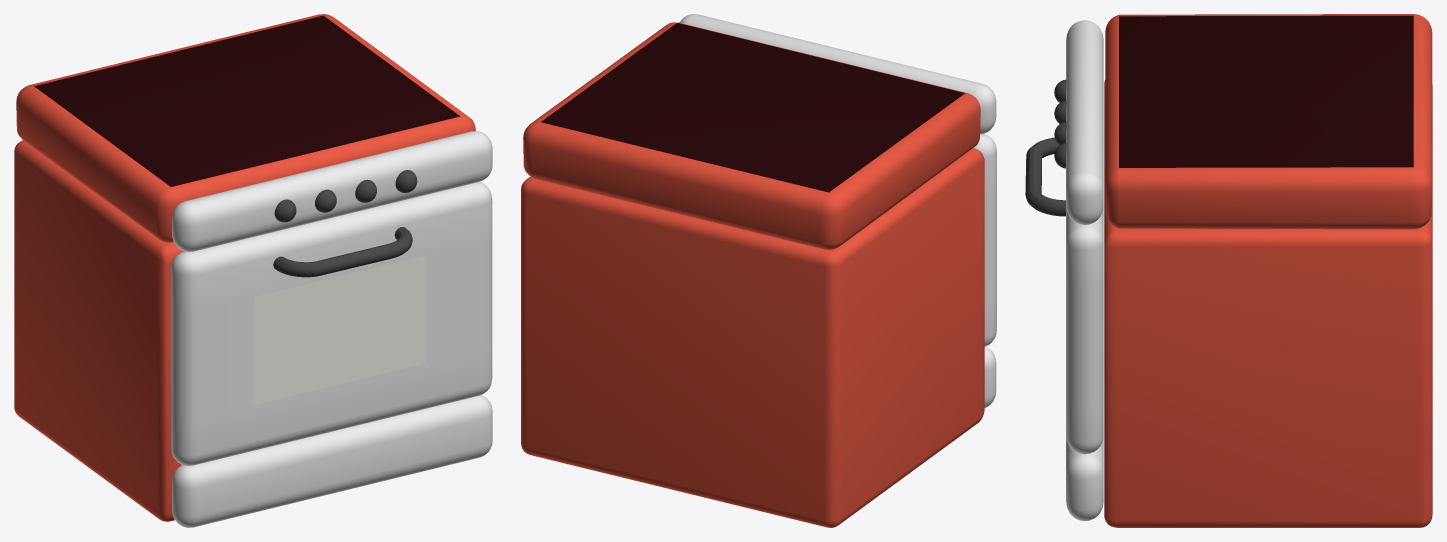
The model's file is oven.fbx.
The picture shows the model from 3 angles, left to right: view 1: azimuth 30°, elevation 25°; view 2: azimuth 150°, elevation 25°; view 3: azimuth 270°, elevation 25°; orthographic projection. The views are drawn at different scales.
Parts seen in each view (by area): view 1: oven; view 2: oven; view 3: oven.
Part boxes in pixels (box(x1,y1,x2,y2)): oven: box(14, 14, 492, 527); oven: box(521, 14, 996, 527); oven: box(1025, 14, 1432, 527).
Bounding box in the file's own units: 159 × 158 × 163.
